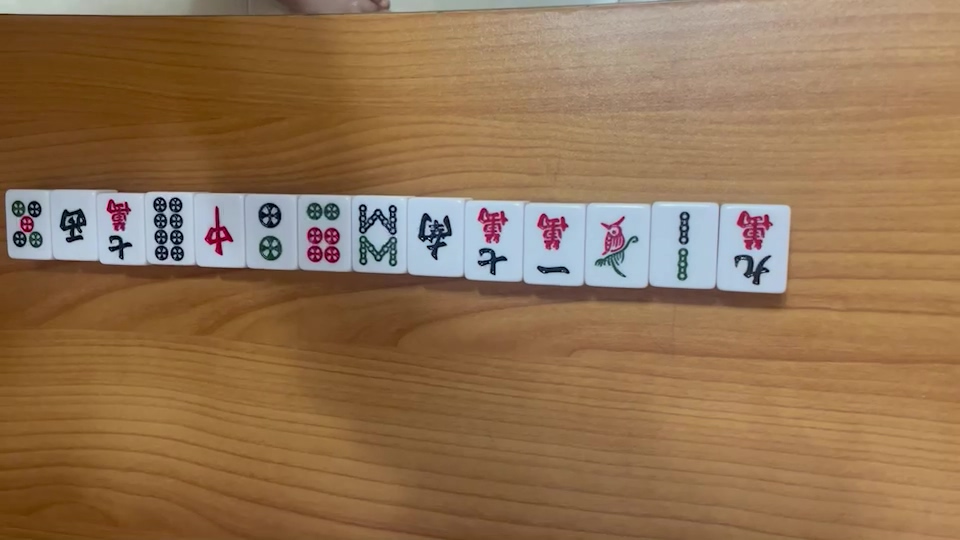b-1: (595, 213, 640, 279)
b-2: (667, 205, 700, 281)
b-8: (356, 202, 399, 268)
c-1: (525, 210, 574, 280)
c-7: (473, 207, 511, 277), (104, 197, 134, 262)
c-9: (729, 212, 779, 289)
d-2: (255, 200, 284, 261)
d-5: (7, 197, 43, 251)
d-6: (302, 202, 343, 262)
d-8: (149, 195, 184, 262)
honors-red: (199, 202, 239, 262)
honors-south: (411, 210, 454, 265)
honors-west: (57, 205, 89, 249)
